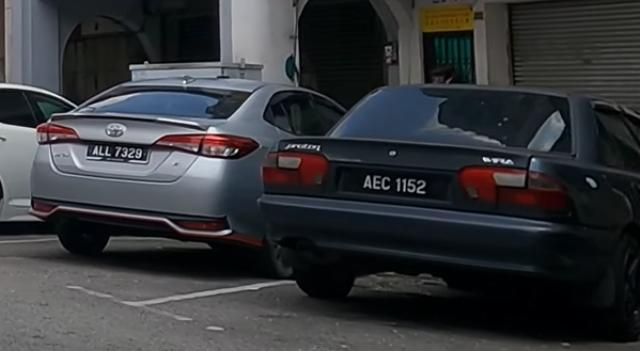License_Plate: (356, 174, 432, 201), (84, 142, 150, 164)
car: (259, 83, 640, 343), (29, 75, 349, 279)
